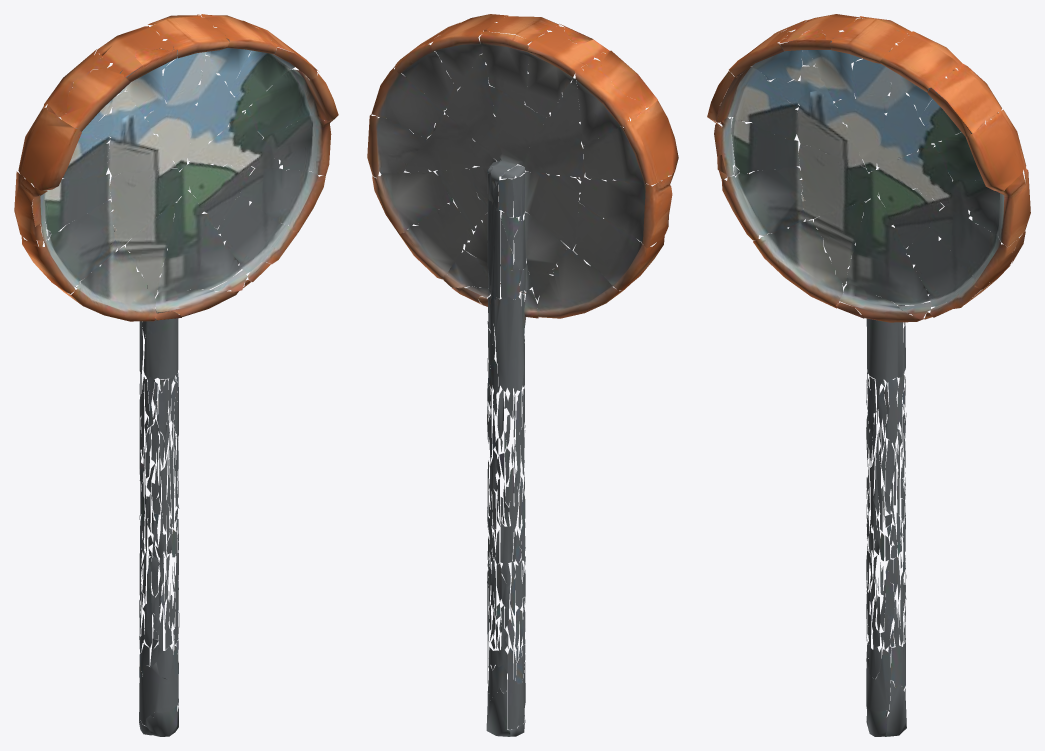
The model's file is prop08.glb.
3 renders of one model, left to right at view 1: azimuth 30°, elevation 25°; view 2: azimuth 150°, elevation 25°; view 3: azimuth 330°, elevation 25°, orthographic. The views are drawn at different scales.
Parts seen in each view (by area): view 1: tripo_node_0032b23a-3ea5-4974-8187-cfea14609359; view 2: tripo_node_0032b23a-3ea5-4974-8187-cfea14609359; view 3: tripo_node_0032b23a-3ea5-4974-8187-cfea14609359.
Part boxes in pixels (left/top/right/bottom): tripo_node_0032b23a-3ea5-4974-8187-cfea14609359: left=14, top=14, right=338, bottom=736; tripo_node_0032b23a-3ea5-4974-8187-cfea14609359: left=367, top=14, right=678, bottom=736; tripo_node_0032b23a-3ea5-4974-8187-cfea14609359: left=707, top=14, right=1030, bottom=736.
Bounding box in the file's own units: 0.4381 × 1 × 0.1208.
Materials: 1 (1 with a texture image).
